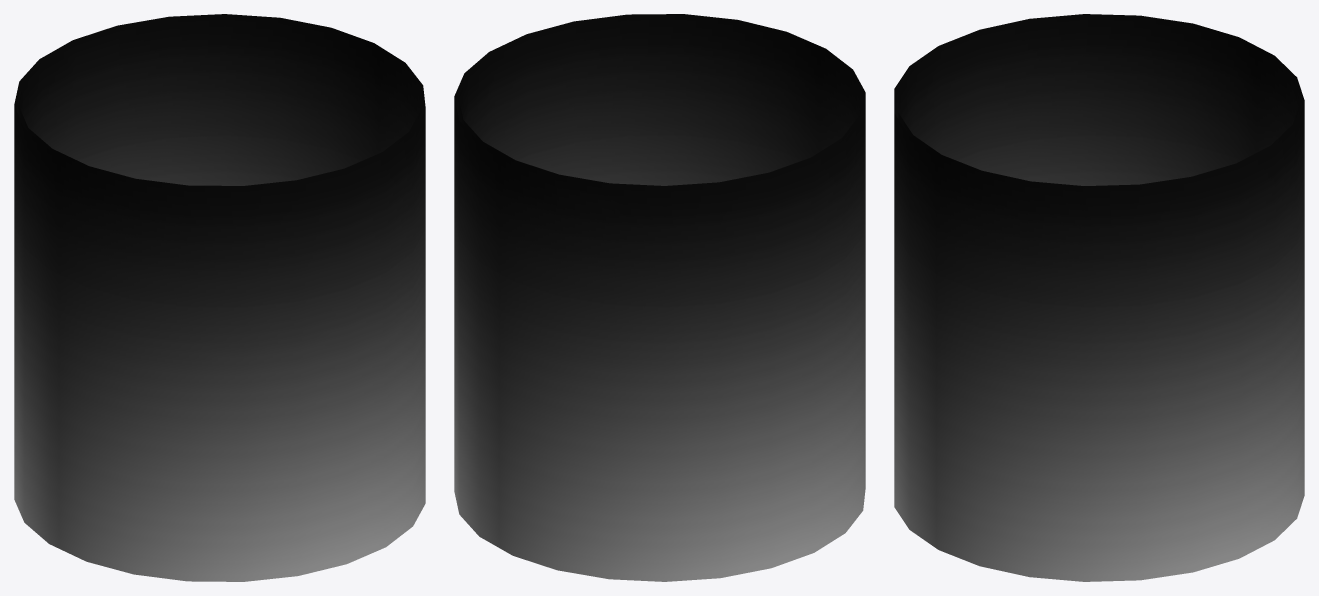
Rendered from teleport-target.glb.
3 renders of one model, left to right at view 1: azimuth 30°, elevation 25°; view 2: azimuth 150°, elevation 25°; view 3: azimuth 270°, elevation 25°, orthographic.
Visible parts, largest first — view 1: Cylinder.001; view 2: Cylinder.001; view 3: Cylinder.001.
Part boxes in pixels (x1,y1,x2,y2): Cylinder.001: (14, 14, 425, 581); Cylinder.001: (454, 14, 865, 581); Cylinder.001: (894, 14, 1304, 581).
Bounding box in the file's own units: 0.9555 × 1.01 × 0.9533.
1 material, 1 textured.
